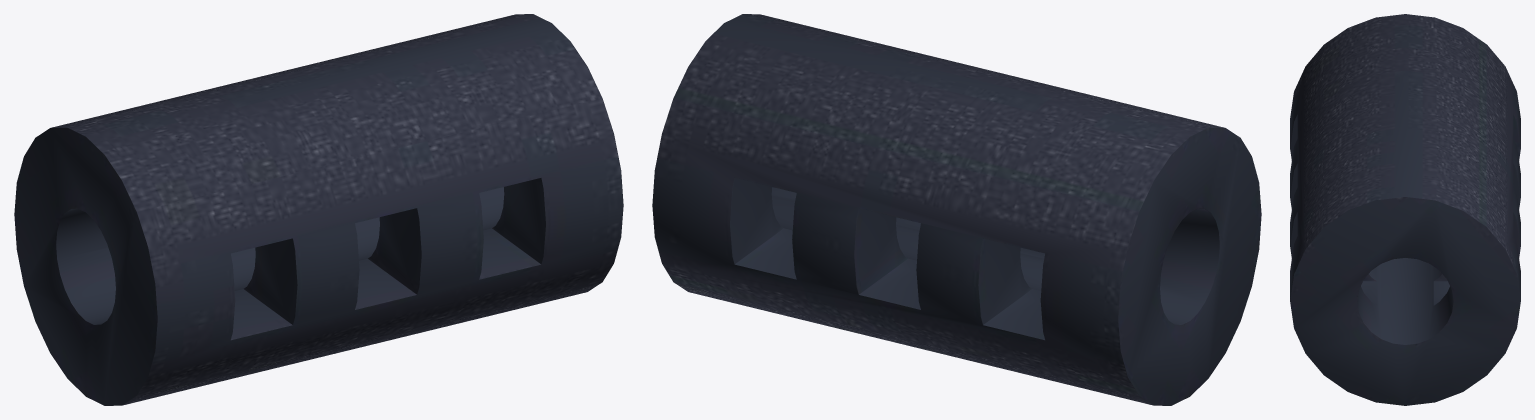
Rendered from att_compensator.glb.
3 views of the same model, side by side, from view 1: azimuth 30°, elevation 25°; view 2: azimuth 150°, elevation 25°; view 3: azimuth 270°, elevation 25° (orthographic). The views are drawn at different scales.
Visible parts, largest first — view 1: brake; view 2: brake; view 3: brake.
Boxes of the visible parts, x1=… form: brake: x1=14, y1=14, x2=623, y2=405; brake: x1=652, y1=14, x2=1261, y2=405; brake: x1=1290, y1=14, x2=1520, y2=405.
Bounding box in the file's own units: 0.045 × 0.024 × 0.024.
Materials: 1 (1 with a texture image).
